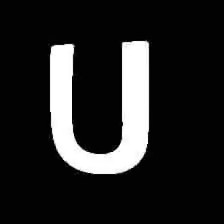LTR_U: (42, 25, 168, 184)
